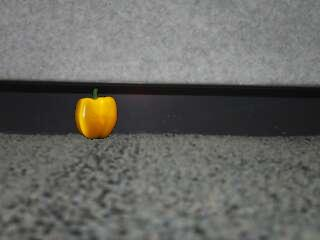Capsicum: (74, 87, 117, 140)
